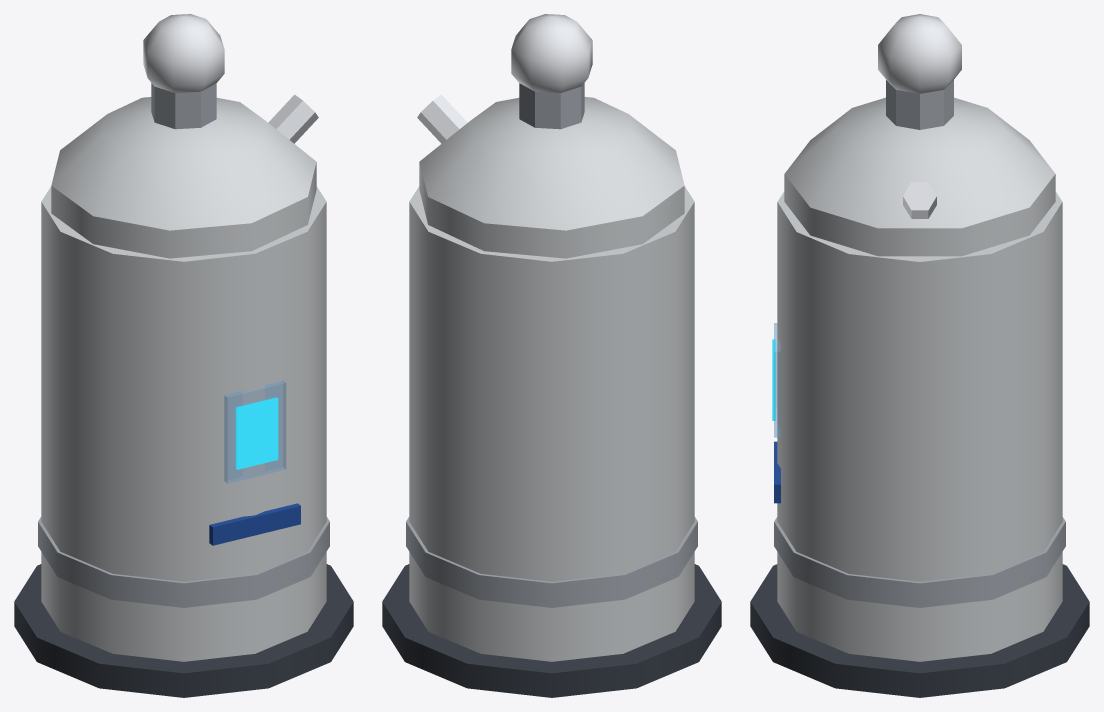
The model's file is tank_cryo_dewar.glb.
The picture shows the model from 3 angles, left to right: view 1: azimuth 30°, elevation 25°; view 2: azimuth 150°, elevation 25°; view 3: azimuth 270°, elevation 25°; orthographic projection.
Visible parts, largest first — view 1: tank_cryo_dewar; view 2: tank_cryo_dewar; view 3: tank_cryo_dewar.
Boxes of the visible parts, <box> form: tank_cryo_dewar: <box>14,14,353,697</box>; tank_cryo_dewar: <box>382,14,721,697</box>; tank_cryo_dewar: <box>750,14,1089,697</box>.
Size of the model in its own units: 1 by 1.98 by 1.
